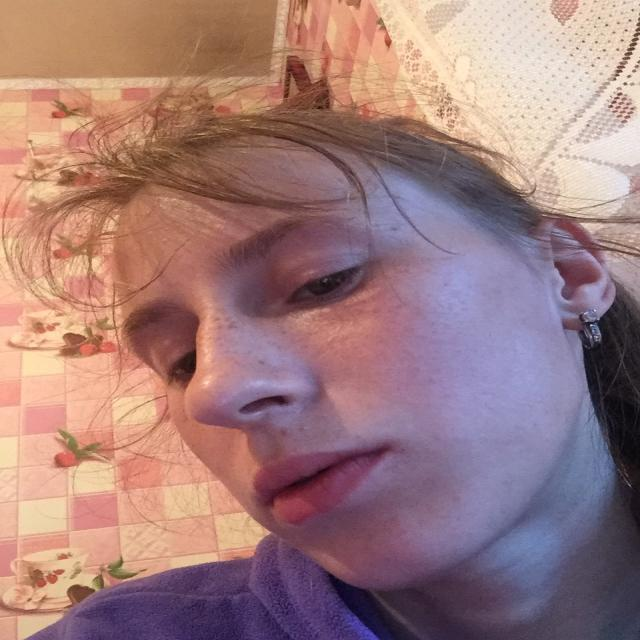acne: (272, 420, 312, 440)
wrinkle: (380, 401, 448, 441)
